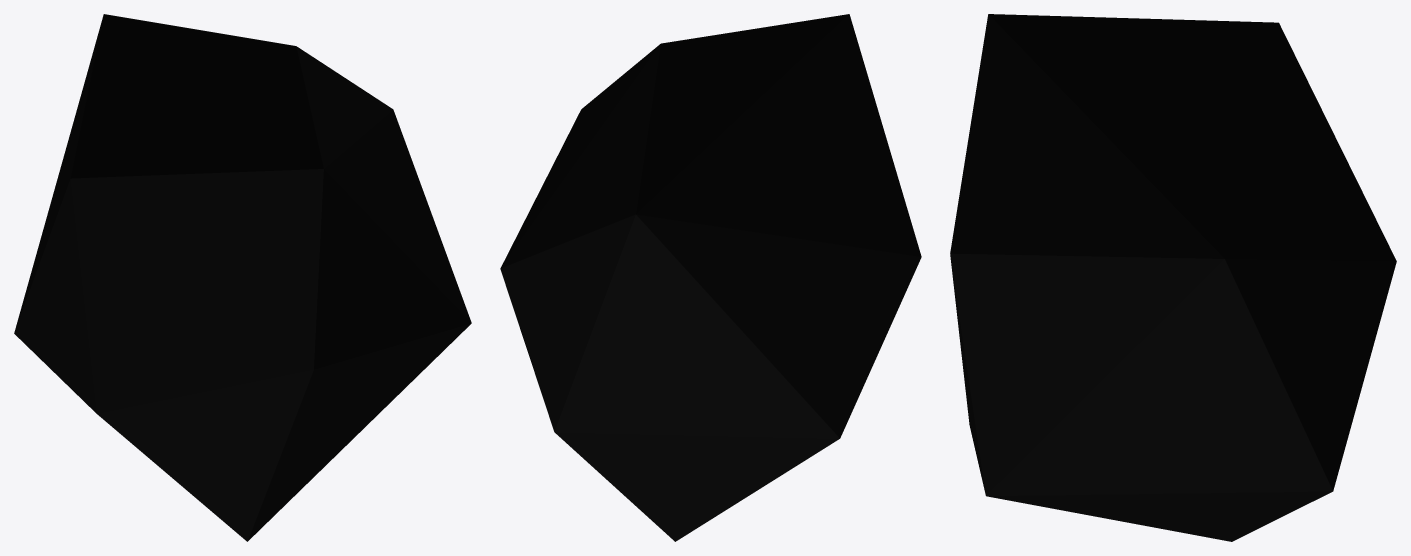
3 renders of one model, left to right at view 1: azimuth 30°, elevation 25°; view 2: azimuth 150°, elevation 25°; view 3: azimuth 270°, elevation 25°, orthographic. The views are drawn at different scales.
Size of the model in its own units: 0.0448 by 0.0551 by 0.0468.
1 material, 1 textured.
